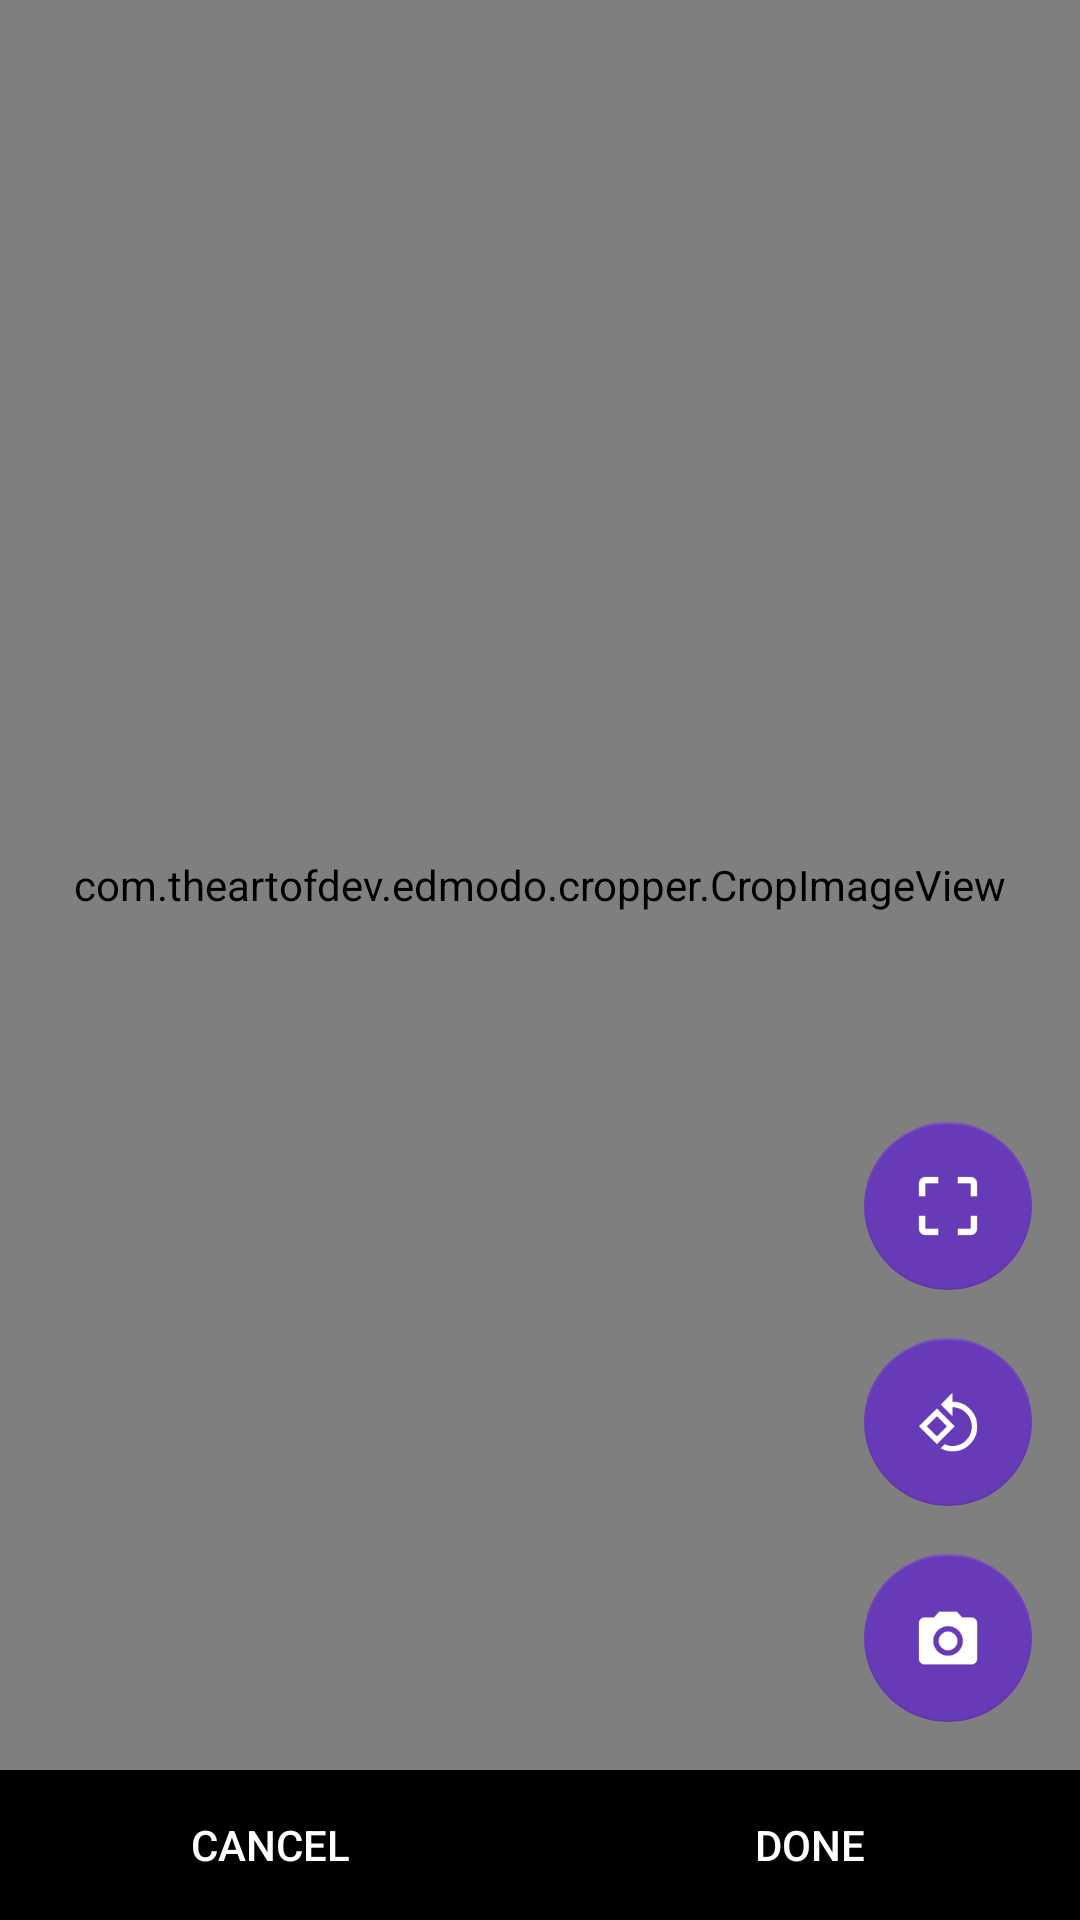

Icon click points for this 1080×1920 phone screenshot, format (x=x, y=y):
camera: (x=948, y=1638)
rotate ccw: (x=948, y=1422)
